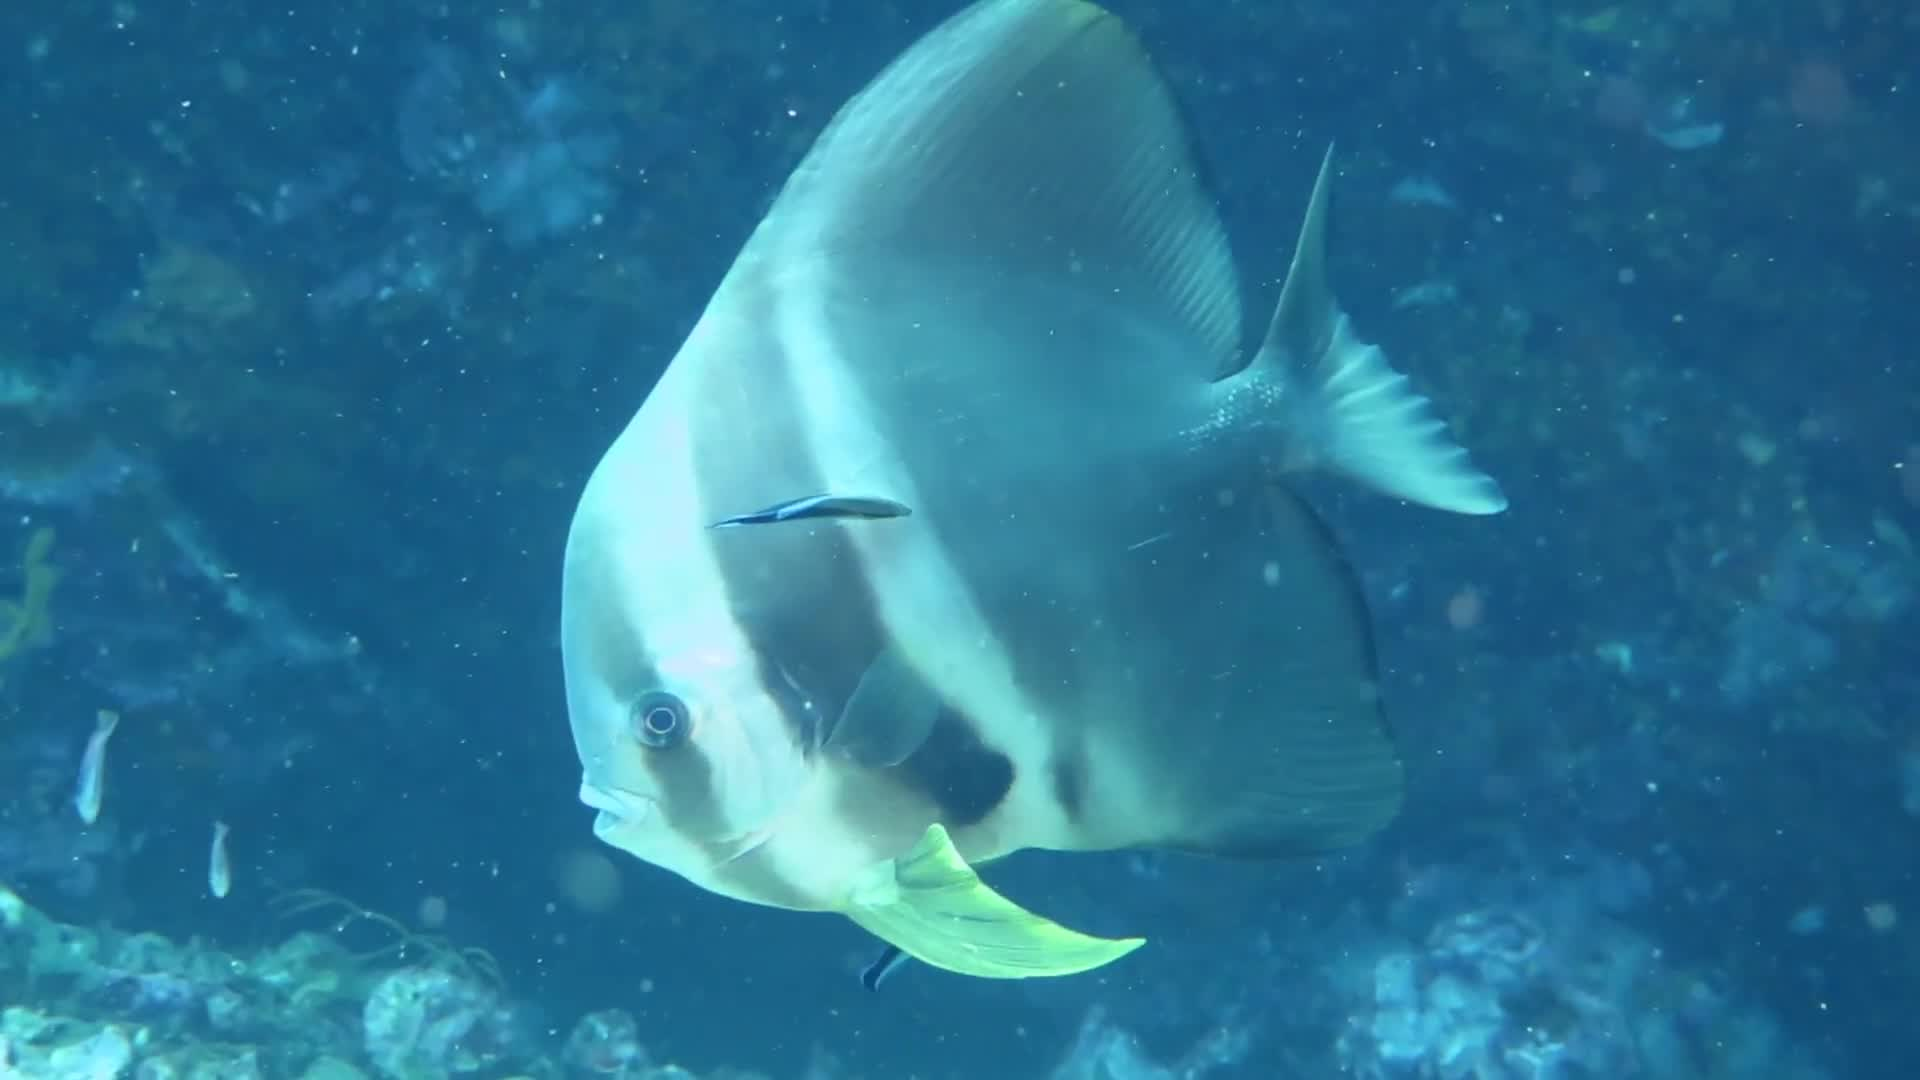Platax teira: (560, 1, 1516, 1068)
